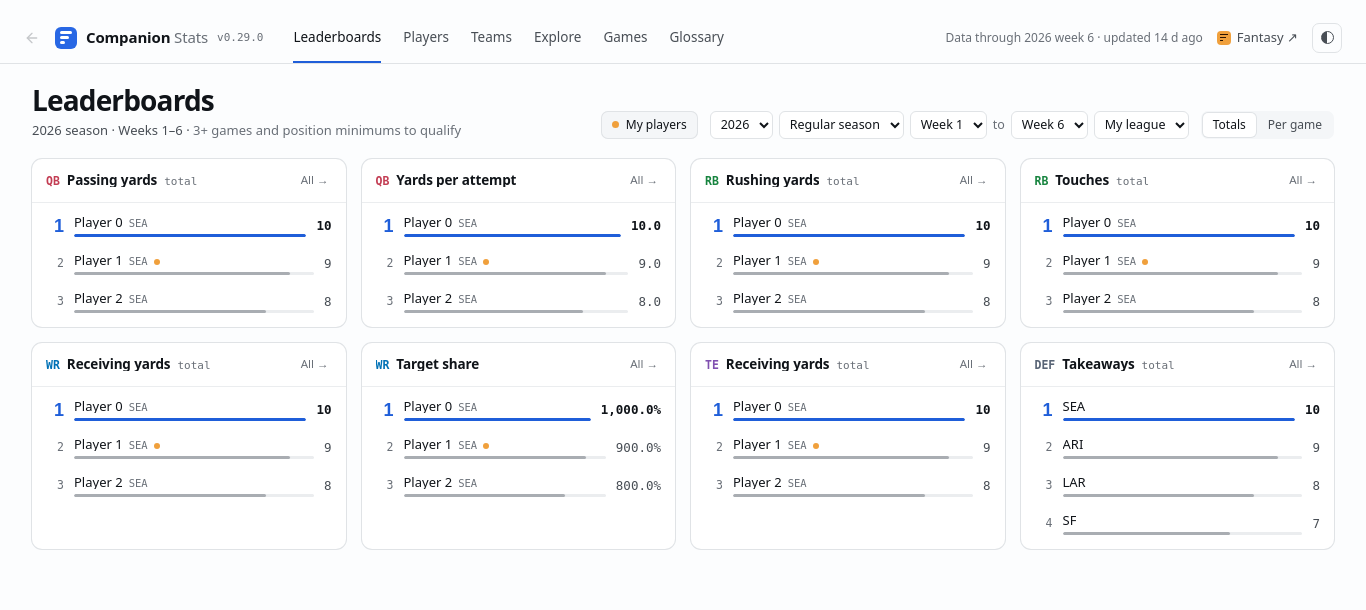
Test: the team dashboard (spec §9.3) › moves between teams with the arrows and the select
This screenshot has width=1366, height=610.
Step 1. Click the button "Teams" → (491, 38), box [471,12,512,63]
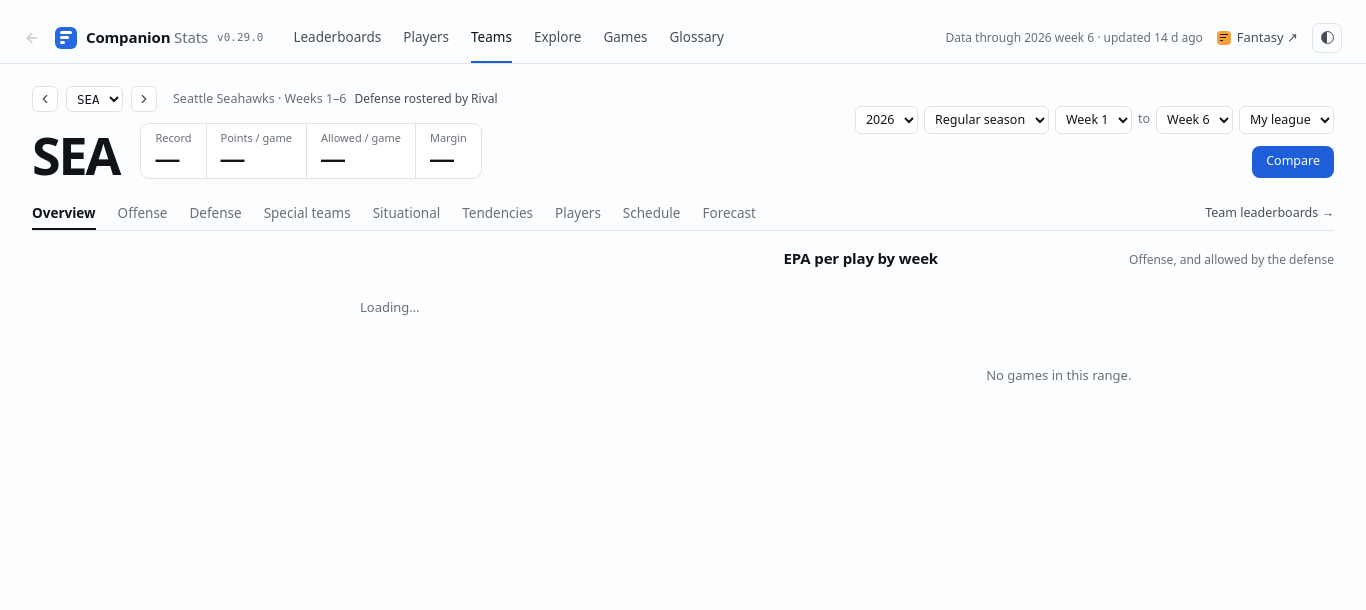
expect the heading "SEA" is shown: met, box [32,133,119,178]
Step 2. Click the button named "Previous team" → (45, 99), box [32,86,58,112]
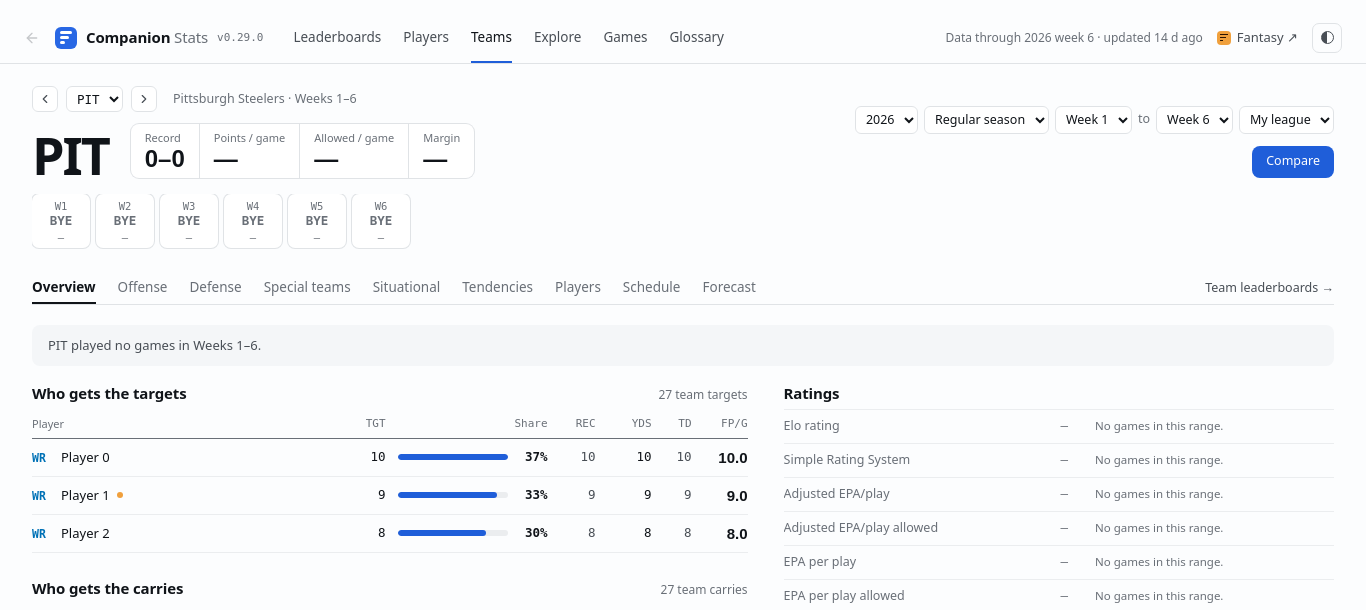
expect the heading "PIT" is shown: met, box [32,133,109,178]
Step 3. Select "LAR" in the dropdown named "Team" → (94, 99), box [66,86,123,112]
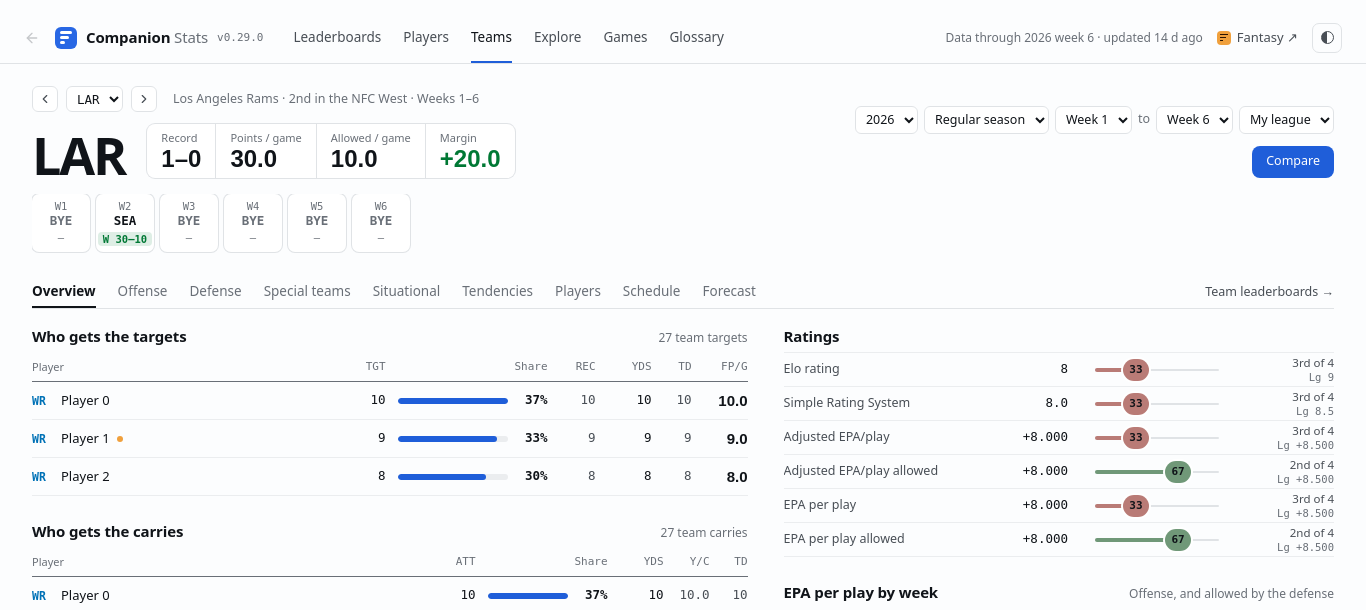
expect the heading "LAR" is shown: met, box [32,133,125,178]
expect the text "Los Angeles Rams · 2nd in the NFC West · Weeks 1–6" is shown: met, box [173,91,479,107]
